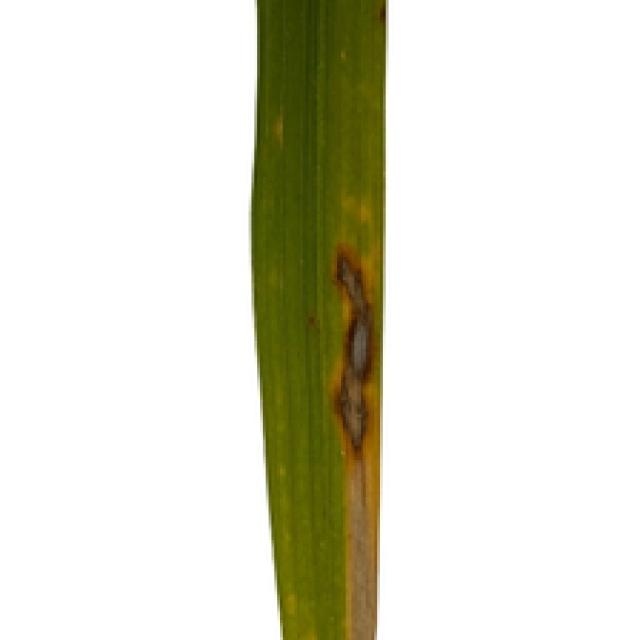Rice___Rice_Blast: (249, 0, 385, 637)
